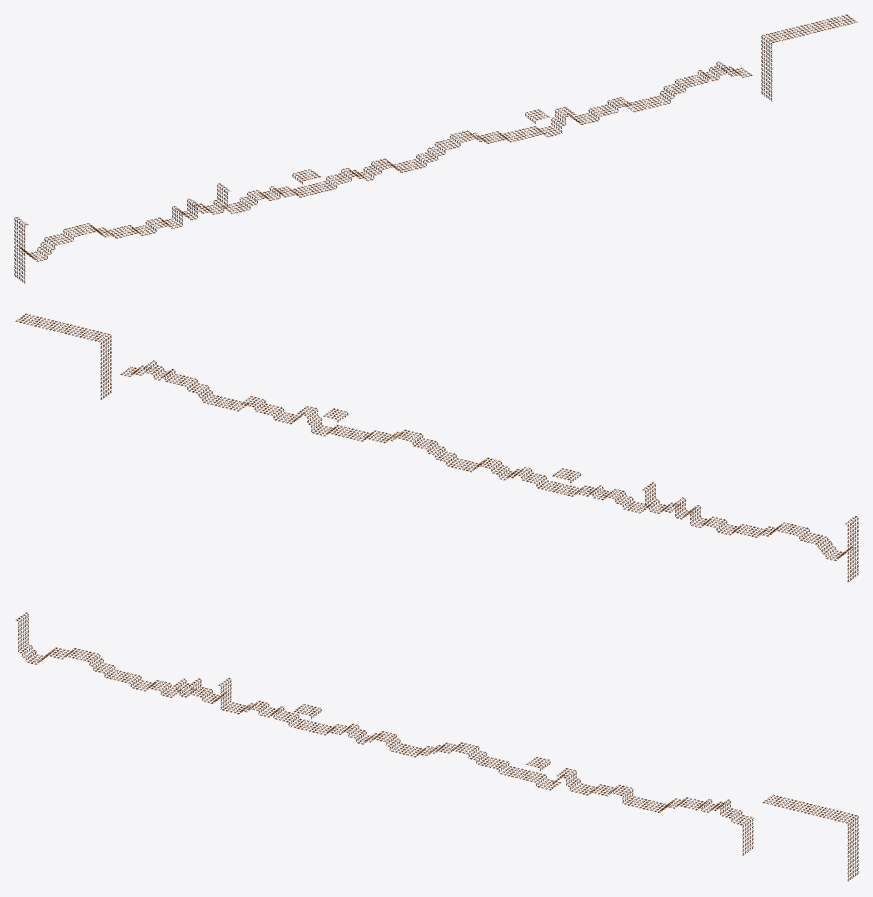
Rendered from Luna2Rachadura09.glb.
3 views of the same model, one above another, from view 1: azimuth 30°, elevation 25°; view 2: azimuth 150°, elevation 25°; view 3: azimuth 330°, elevation 25° (orthographic).
Parts seen in each view (by area): view 1: Setor_1, Setor_6, Setor_2, Setor_4, Setor_5, Setor_3, Setor_0; view 2: Setor_1, Setor_4, Setor_6, Setor_2, Setor_5, Setor_3, Setor_0; view 3: Setor_6, Setor_0, Setor_1, Setor_4, Setor_2, Setor_5, Setor_3.
Boxes of the visible parts, x1=… form: Setor_1: x1=135, y1=183, x2=264, y2=235; Setor_6: x1=736, y1=14, x2=857, y2=101; Setor_2: x1=256, y1=161, x2=384, y2=200; Setor_4: x1=496, y1=99, x2=624, y2=142; Setor_5: x1=616, y1=61, x2=744, y2=112; Setor_3: x1=376, y1=130, x2=504, y2=172; Setor_0: x1=15, y1=217, x2=144, y2=261; Setor_1: x1=608, y1=482, x2=737, y2=534; Setor_4: x1=248, y1=398, x2=376, y2=441; Setor_6: x1=15, y1=313, x2=136, y2=399; Setor_2: x1=488, y1=460, x2=616, y2=500; Setor_5: x1=128, y1=360, x2=256, y2=411; Setor_3: x1=368, y1=429, x2=496, y2=472; Setor_0: x1=728, y1=516, x2=857, y2=560; Setor_6: x1=736, y1=794, x2=858, y2=881; Setor_0: x1=15, y1=612, x2=143, y2=688; Setor_1: x1=135, y1=677, x2=264, y2=714; Setor_4: x1=496, y1=757, x2=624, y2=796; Setor_2: x1=256, y1=702, x2=384, y2=744; Setor_5: x1=616, y1=786, x2=744, y2=823; Setor_3: x1=376, y1=732, x2=504, y2=768.
Bounding box in the file's own units: 231 × 15.6 × 5.6.
Materials: 1 (1 with a texture image).
